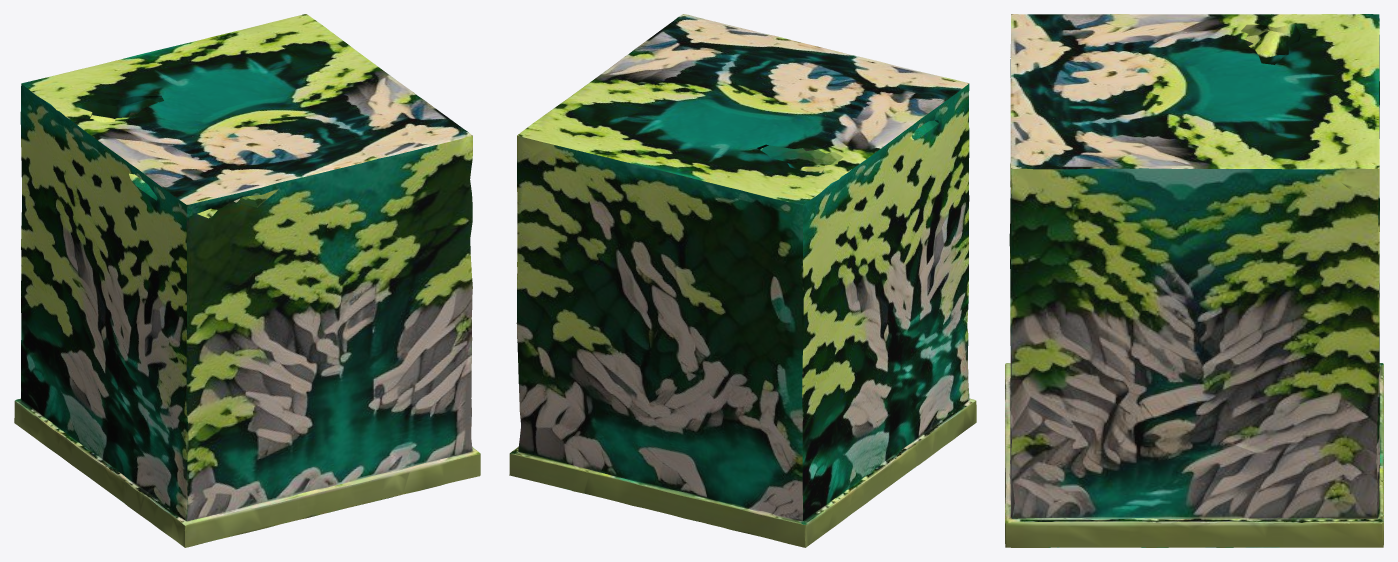
File: oboke-gorge.glb
3 views of the same model, side by side, from view 1: azimuth 30°, elevation 25°; view 2: azimuth 150°, elevation 25°; view 3: azimuth 270°, elevation 25° (orthographic). The views are drawn at different scales.
Parts seen in each view (by area): view 1: logan-textured.obj; view 2: logan-textured.obj; view 3: logan-textured.obj.
Boxes of the visible parts, x1,y1,x2,y2 form: logan-textured.obj: [14, 14, 480, 547]; logan-textured.obj: [509, 14, 976, 547]; logan-textured.obj: [1005, 14, 1383, 547].
Size of the model in its own units: 0.9114 by 1 by 0.9116.
1 material, 1 textured.
